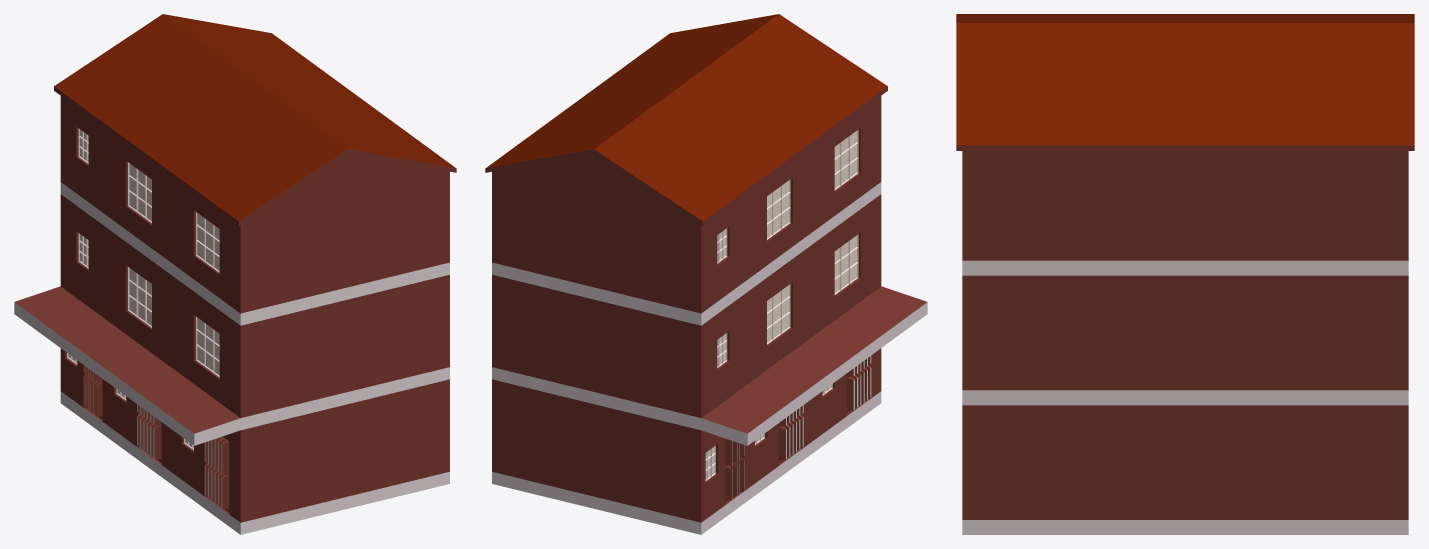
Rendered from Building 5.fbx.
3 views of the same model, side by side, from view 1: azimuth 30°, elevation 25°; view 2: azimuth 150°, elevation 25°; view 3: azimuth 270°, elevation 25° (orthographic). The views are drawn at different scales.
Visible parts, largest first — view 1: building_003; view 2: building_003; view 3: building_003.
Part boxes in pixels (<box>): building_003: <box>14,14,456,534</box>; building_003: <box>485,14,927,534</box>; building_003: <box>956,14,1414,534</box>.
Size of the model in its own units: 624 by 830 by 769.
